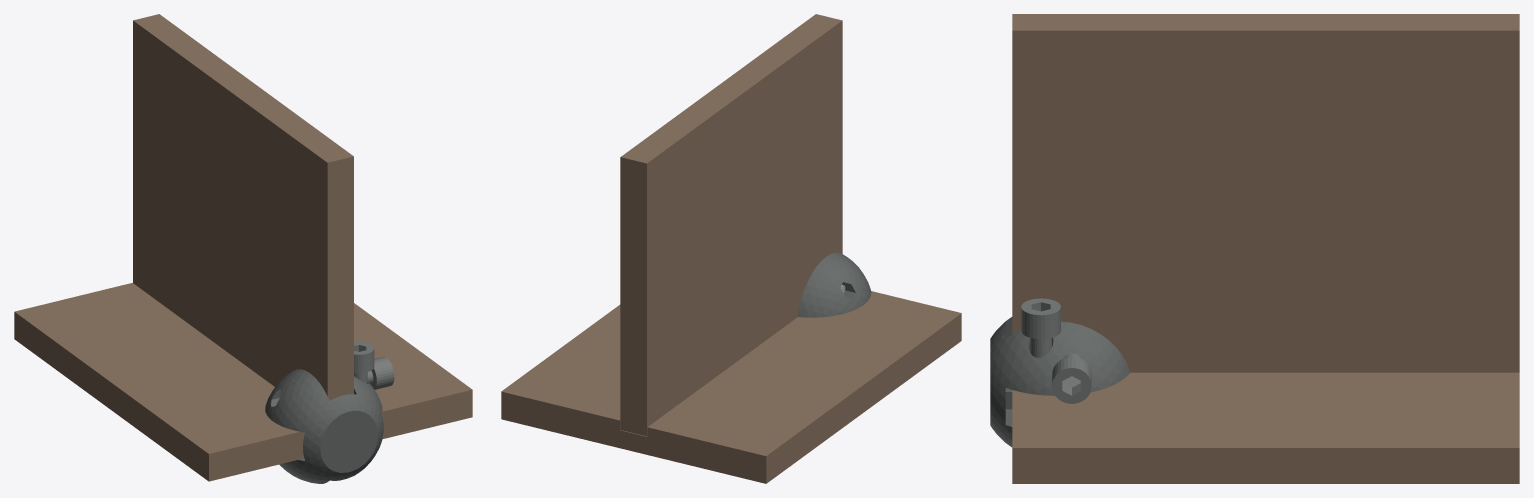
File: test-joint.glb
3 renders of one model, left to right at view 1: azimuth 30°, elevation 25°; view 2: azimuth 150°, elevation 25°; view 3: azimuth 270°, elevation 25°, orthographic. The views are drawn at different scales.
Visible parts, largest first — view 1: divider, shelf, sphere, 0-knob, 1-knob; view 2: divider, shelf, sphere; view 3: divider, shelf, sphere, 0-knob, 1-knob.
Boxes of the visible parts, x1,y1,x2,y2 form: divider: (133, 14, 353, 400); shelf: (14, 283, 472, 481); sphere: (265, 369, 383, 483); 0-knob: (354, 342, 374, 383); 1-knob: (367, 356, 394, 389); divider: (620, 14, 842, 436); shelf: (501, 291, 961, 483); sphere: (797, 252, 871, 317); divider: (1012, 14, 1519, 372); shelf: (1012, 372, 1519, 483); sphere: (990, 317, 1129, 447); 0-knob: (1021, 298, 1060, 357); 1-knob: (1052, 353, 1091, 403).
Bounding box in the file's own units: 0.18 × 0.2148 × 0.24.
